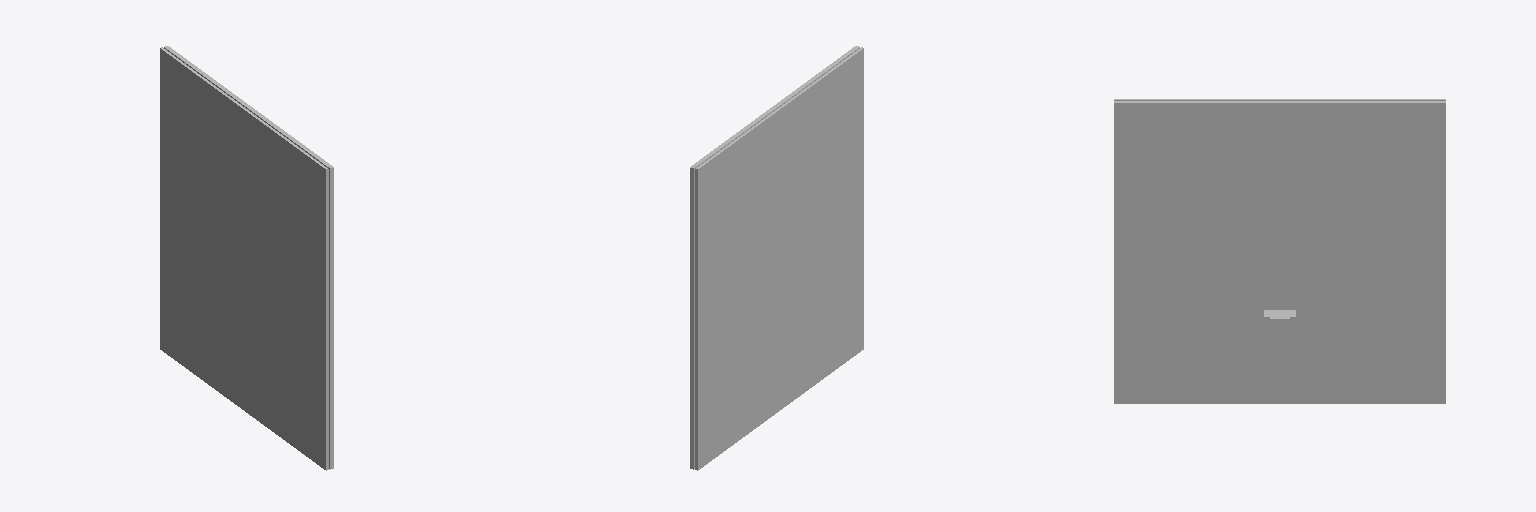
File: route_a.obj
3 views of the same model, side by side, from view 1: azimuth 30°, elevation 25°; view 2: azimuth 150°, elevation 25°; view 3: azimuth 270°, elevation 25° (orthographic).
Visible parts, largest first — view 1: cube; view 2: cube; view 3: cube.
Boxes of the visible parts, x1,y1,x2,y2 form: cube: [160, 46, 333, 470]; cube: [690, 46, 863, 470]; cube: [1114, 99, 1445, 403].
Bounding box in the file's own units: 0.0922 × 1 × 1.